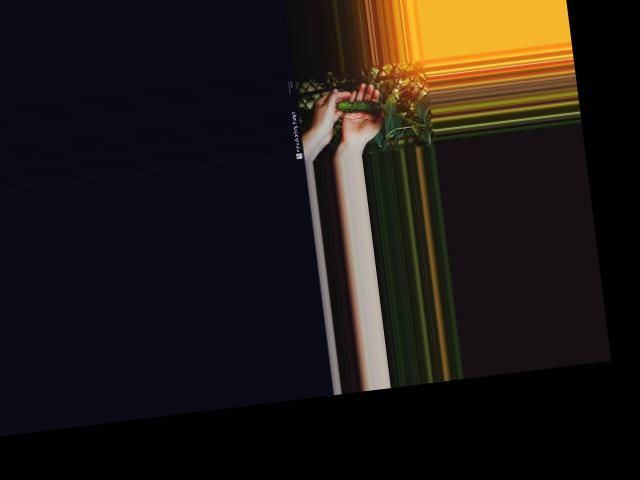cucumber: (336, 96, 381, 117)
